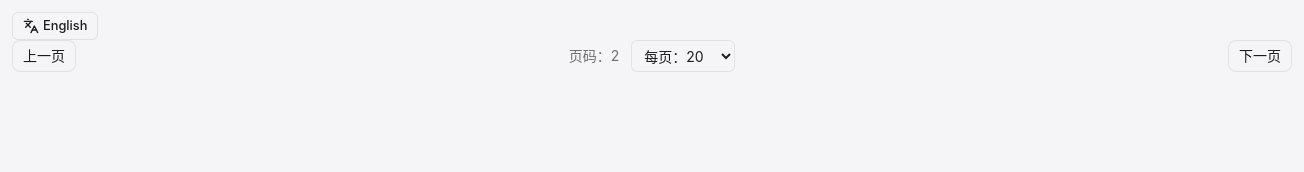
it: AdminPagination › switches controls and page-size options together
The width and height of the screenshot is (1304, 172).
Check: the button "上一页" is shown, box [12,40,76,72]
Check: the dropdown named "每页行数" shows "每页：20", box [631,40,735,72]
Click the button with aria-label "切换至英文": click(55, 26) [12,12,98,40]
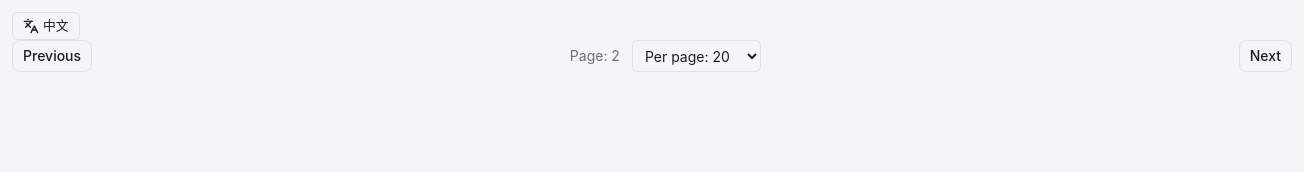
Check: the button "Previous" is shown, box [12,40,92,72]
Check: the dropdown named "Rows per page" shows "Per page: 20", box [632,40,761,72]
